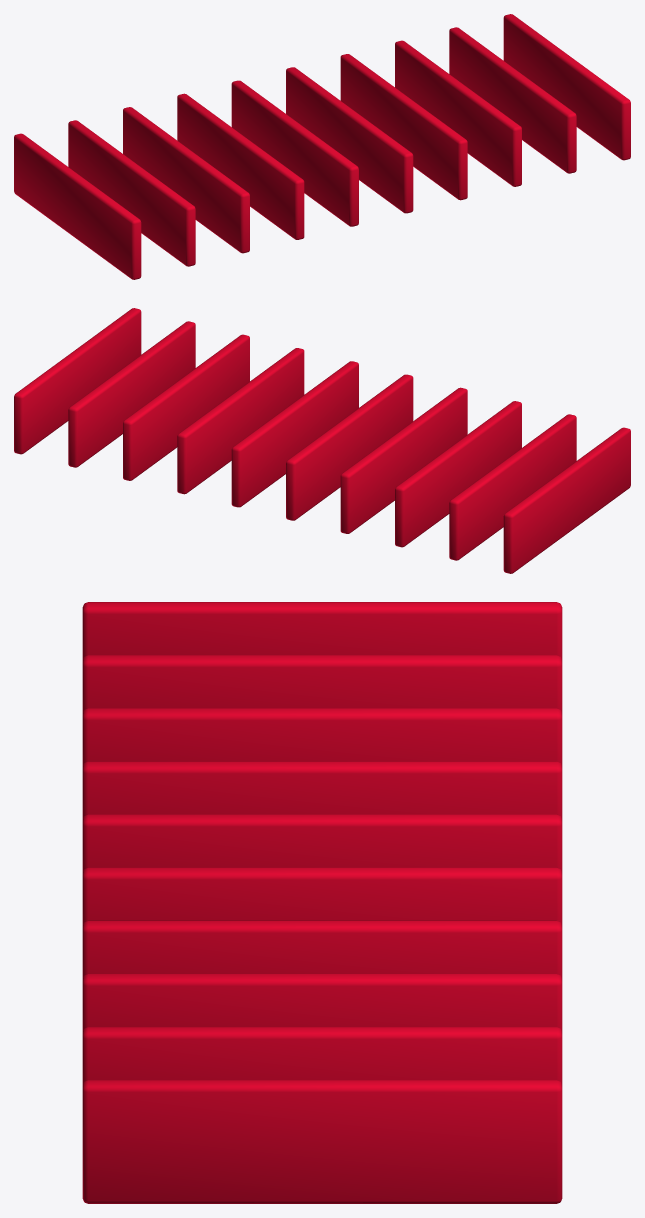
Rendered from BeveledWalls.fbx.
3 renders of one model, top to bottom at view 1: azimuth 30°, elevation 25°; view 2: azimuth 150°, elevation 25°; view 3: azimuth 270°, elevation 25°, orthographic. The views are drawn at different scales.
Parts seen in each view (by area): view 1: Wall_Player_0.003, Wall_Player_5.003, Wall_Player_4.003, Wall_Player_8.003, Wall_Player_1.003, Wall_Player_3.003, Wall_Player_6.003, Wall_Player_9.003, Wall_Player_2.003, Wall_Player_7.003; view 2: Wall_Player_0.003, Wall_Player_5.003, Wall_Player_4.003, Wall_Player_8.003, Wall_Player_1.003, Wall_Player_3.003, Wall_Player_6.003, Wall_Player_9.003, Wall_Player_2.003, Wall_Player_7.003; view 3: Wall_Player_9.003, Wall_Player_4.003, Wall_Player_1.003, Wall_Player_2.003, Wall_Player_5.003, Wall_Player_6.003, Wall_Player_0.003, Wall_Player_3.003, Wall_Player_8.003, Wall_Player_7.003.
Boxes of the visible parts, x1,y1,x2,y2 form: Wall_Player_0.003: (14, 133, 141, 279); Wall_Player_5.003: (286, 67, 413, 213); Wall_Player_4.003: (231, 80, 358, 226); Wall_Player_8.003: (449, 27, 576, 173); Wall_Player_1.003: (68, 120, 195, 266); Wall_Player_3.003: (177, 93, 304, 239); Wall_Player_6.003: (340, 54, 467, 200); Wall_Player_9.003: (503, 14, 630, 160); Wall_Player_2.003: (123, 107, 249, 253); Wall_Player_7.003: (395, 40, 521, 186); Wall_Player_0.003: (503, 427, 630, 573); Wall_Player_5.003: (231, 361, 358, 507); Wall_Player_4.003: (286, 374, 413, 520); Wall_Player_8.003: (68, 321, 195, 467); Wall_Player_1.003: (449, 414, 576, 560); Wall_Player_3.003: (340, 387, 467, 533); Wall_Player_6.003: (177, 348, 304, 494); Wall_Player_9.003: (14, 308, 141, 454); Wall_Player_2.003: (395, 401, 521, 547); Wall_Player_7.003: (123, 334, 249, 480); Wall_Player_9.003: (82, 1080, 562, 1203); Wall_Player_4.003: (82, 814, 562, 872); Wall_Player_1.003: (82, 655, 562, 712); Wall_Player_2.003: (82, 708, 562, 765); Wall_Player_5.003: (82, 867, 562, 925); Wall_Player_6.003: (82, 920, 562, 978); Wall_Player_0.003: (82, 602, 562, 659); Wall_Player_3.003: (82, 761, 562, 818); Wall_Player_8.003: (82, 1027, 562, 1084); Wall_Player_7.003: (82, 974, 562, 1031).
Bounding box in the file's own units: 89.42 × 10.16 × 37.21.
